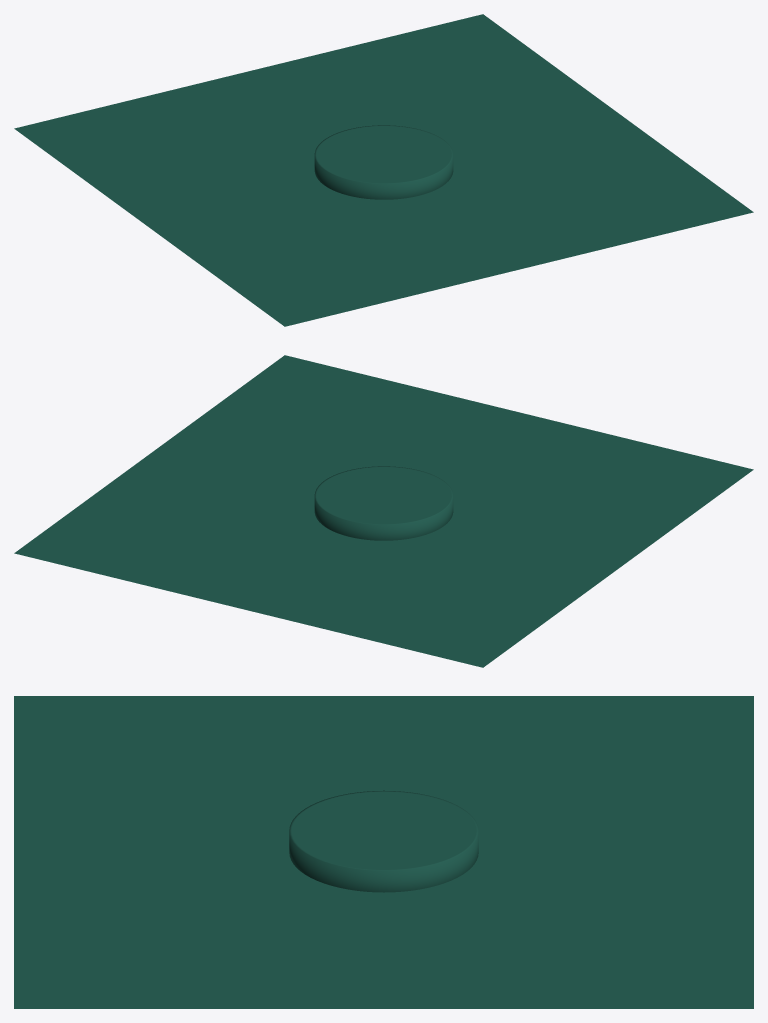
File: t-nua.glb
3 renders of one model, top to bottom at view 1: azimuth 30°, elevation 25°; view 2: azimuth 150°, elevation 25°; view 3: azimuth 270°, elevation 25°, orthographic. The views are drawn at different scales.
Parts seen in each view (by area): view 1: Plane.001, Plane.002; view 2: Plane.001, Plane.002; view 3: Plane.001, Plane.002.
Boxes of the visible parts, bbox=[...] form: Plane.001: bbox=[14, 14, 753, 326]; Plane.002: bbox=[314, 125, 453, 199]; Plane.001: bbox=[14, 355, 753, 667]; Plane.002: bbox=[314, 466, 453, 540]; Plane.001: bbox=[14, 696, 753, 1008]; Plane.002: bbox=[289, 790, 478, 892].
Size of the model in its own units: 14.09 by 2.29 by 14.09.
